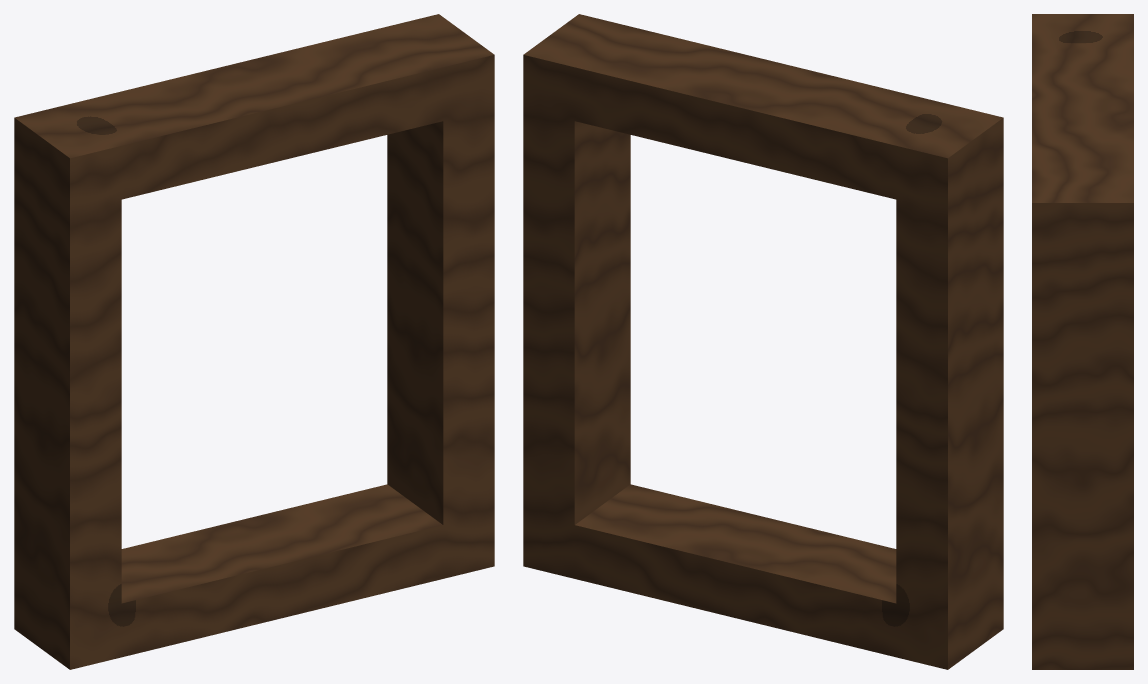
Rendered from window_frame_small.glb.
3 views of the same model, side by side, from view 1: azimuth 30°, elevation 25°; view 2: azimuth 150°, elevation 25°; view 3: azimuth 270°, elevation 25° (orthographic). The views are drawn at different scales.
Parts seen in each view (by area): view 1: jamb_l, jamb_r, head, stool; view 2: jamb_l, jamb_r, head, stool; view 3: jamb_r, head, jamb_l.
Part boxes in pixels (left/top/right/bottom): jamb_l: left=14, top=105, right=121, bottom=669; jamb_r: left=387, top=14, right=494, bottom=578; head: left=66, top=26, right=443, bottom=199; stool: left=121, top=484, right=443, bottom=657; jamb_l: left=896, top=105, right=1003, bottom=669; jamb_r: left=523, top=14, right=630, bottom=578; head: left=574, top=26, right=951, bottom=199; stool: left=574, top=484, right=896, bottom=657; jamb_r: left=1032, top=180, right=1133, bottom=669; head: left=1032, top=37, right=1133, bottom=179; jamb_l: left=1032, top=14, right=1133, bottom=36.
Bounding box in the file's own units: 0.66 × 0.76 × 0.15.
1 material, 1 textured.
